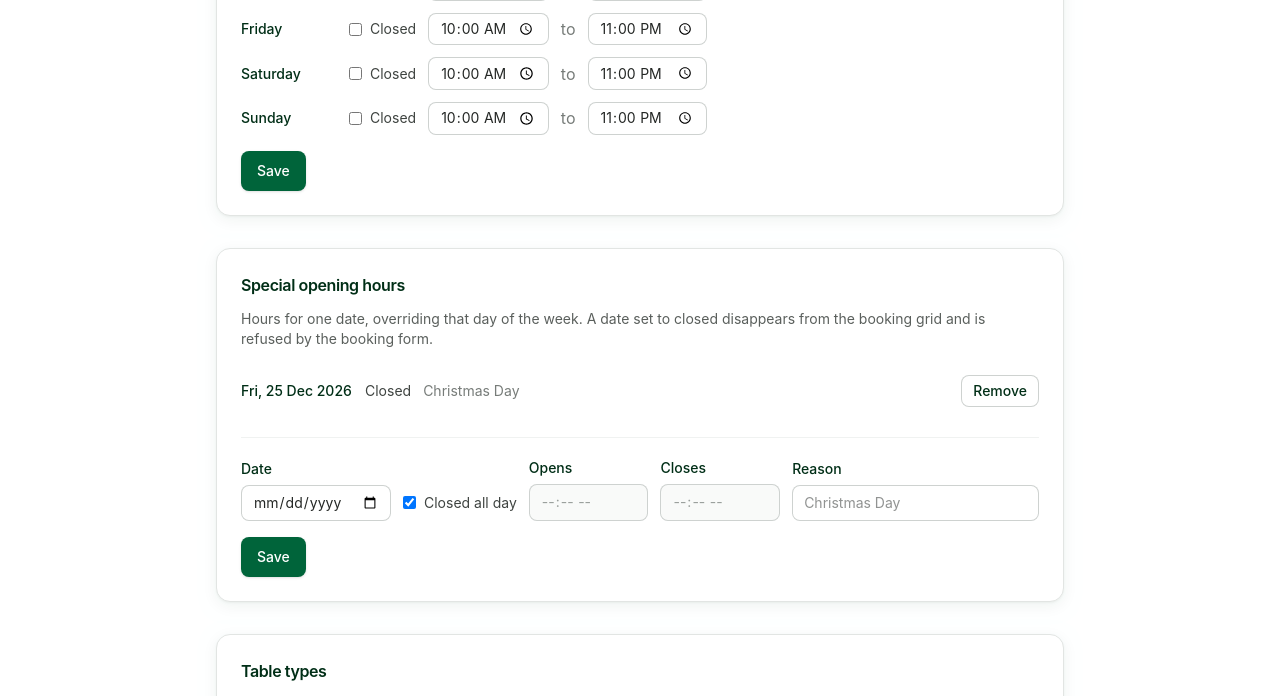
Test: AdminSettingsPage › does not leave a failed removal's error over a special-hours save that worked
(page scrolled)
Expected: the text "Christmas Day" is shown, [423,381,520,401]
Click the button "Remove" at (1000, 391), box [961,375,1039,407]
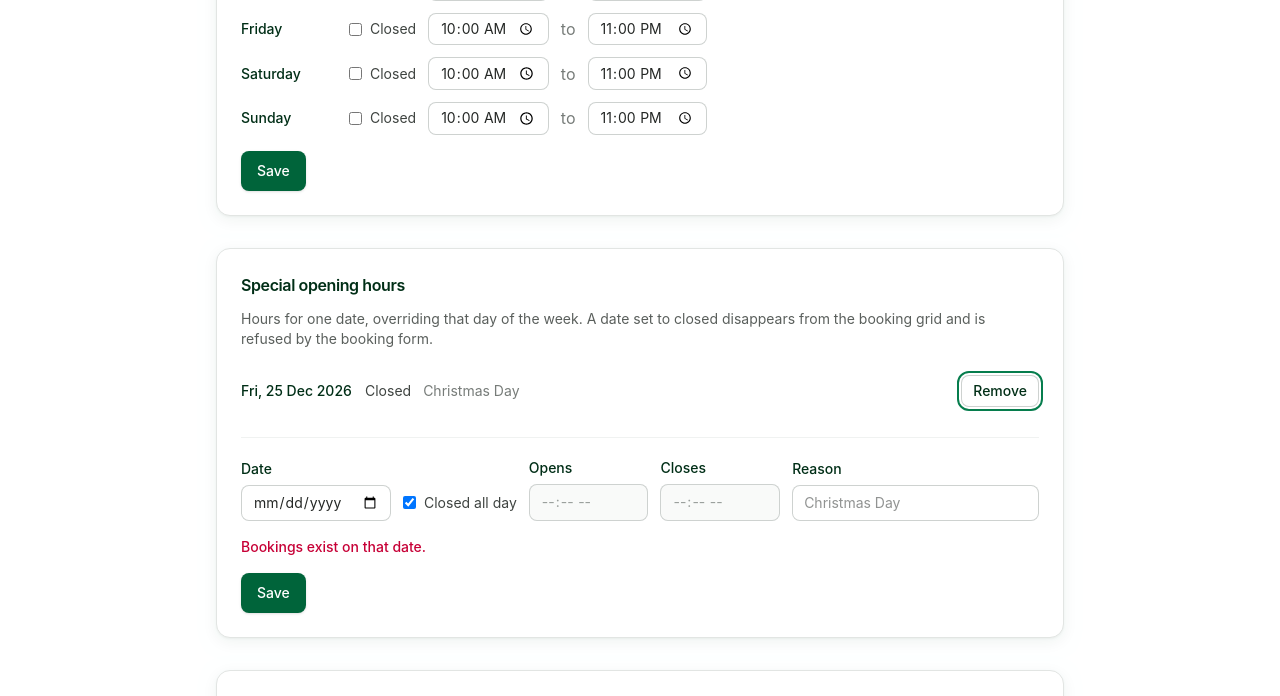
Expected: the text "Bookings exist on that date." is shown, [241,538,426,554]
Type "2026-12-26" into the date field labelled "Date" at (316, 502), box [241,484,391,520]
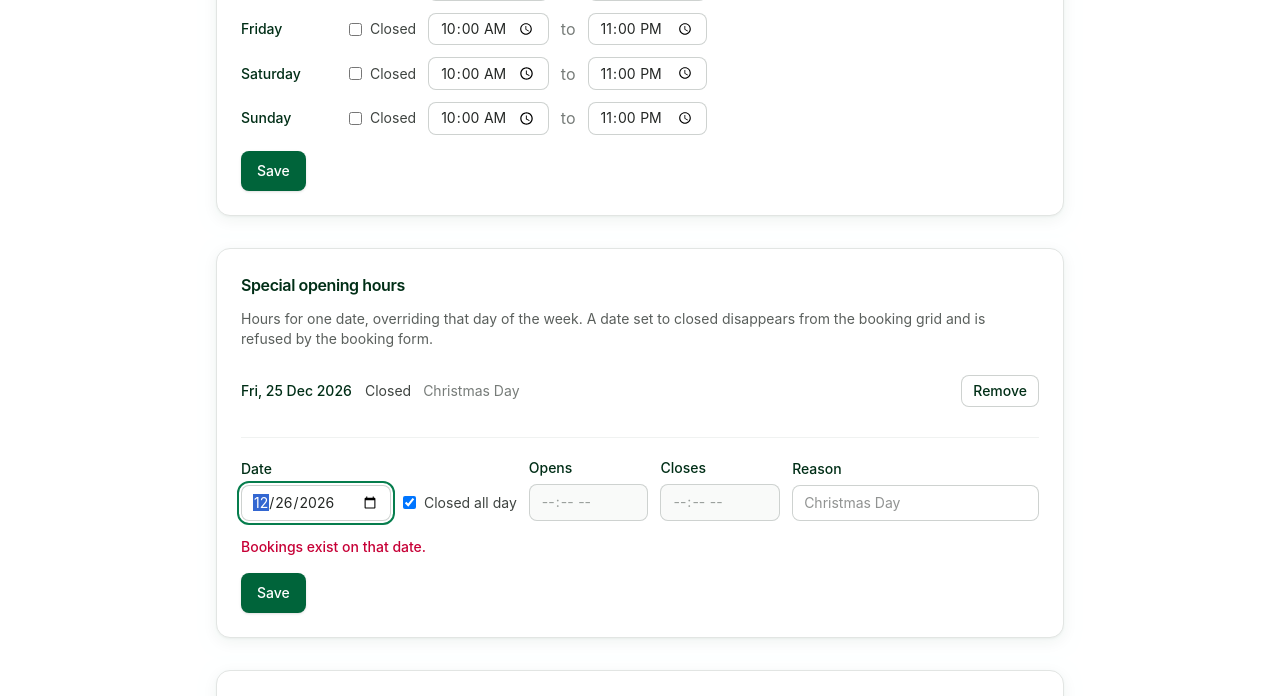
Click the button "Save" below "Bookings exist on that date." at (273, 592), box [241,572,306,612]
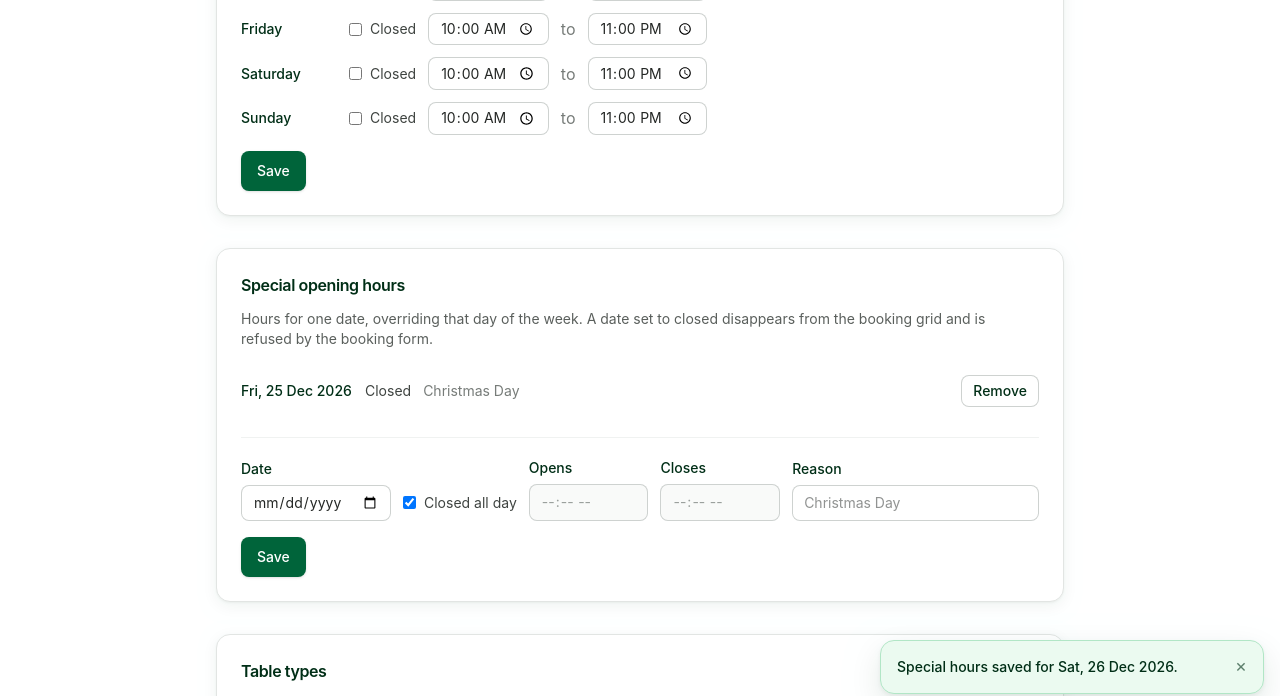
Expected: the text "Bookings exist on that date" is gone
